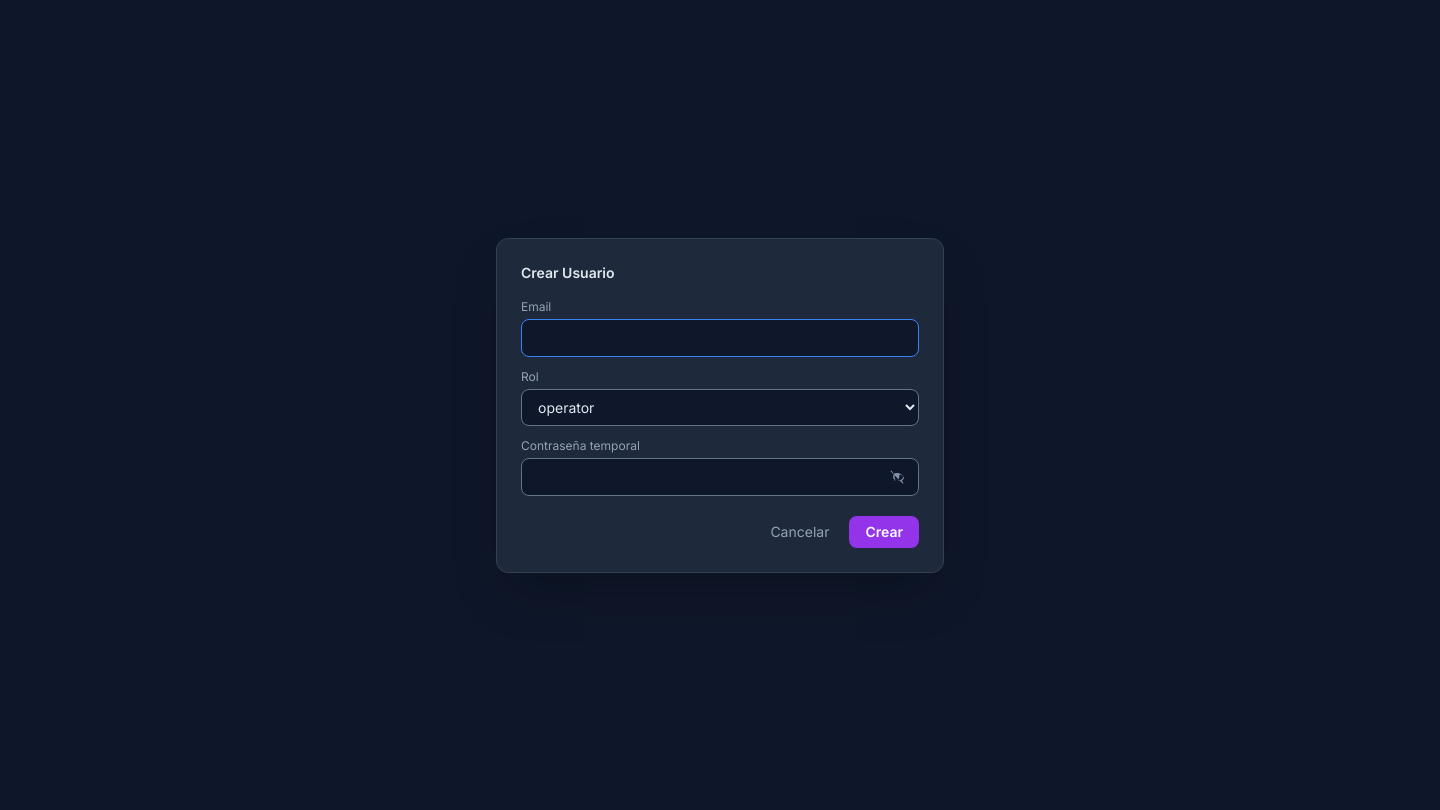
CrearUsuarioModal › en es, mientras guarda el botón dice "Crear" -> "Creando…"
In the field labelled "Email": (720, 338) [521,318,919,356], type "n@x.io"
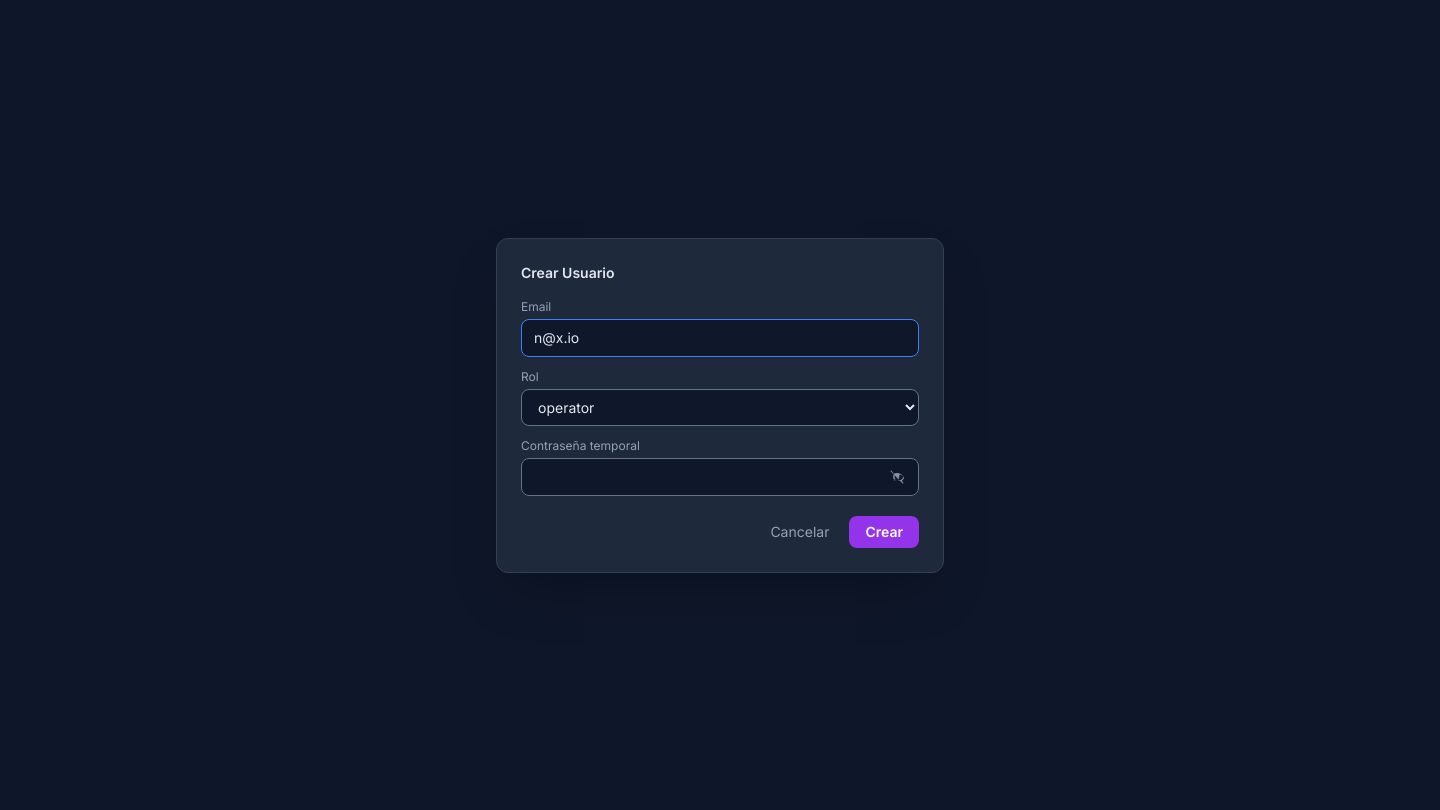
In the password field labelled "Contraseña temporal": (720, 476) [521,458,919,496], type "clave-larga-9"
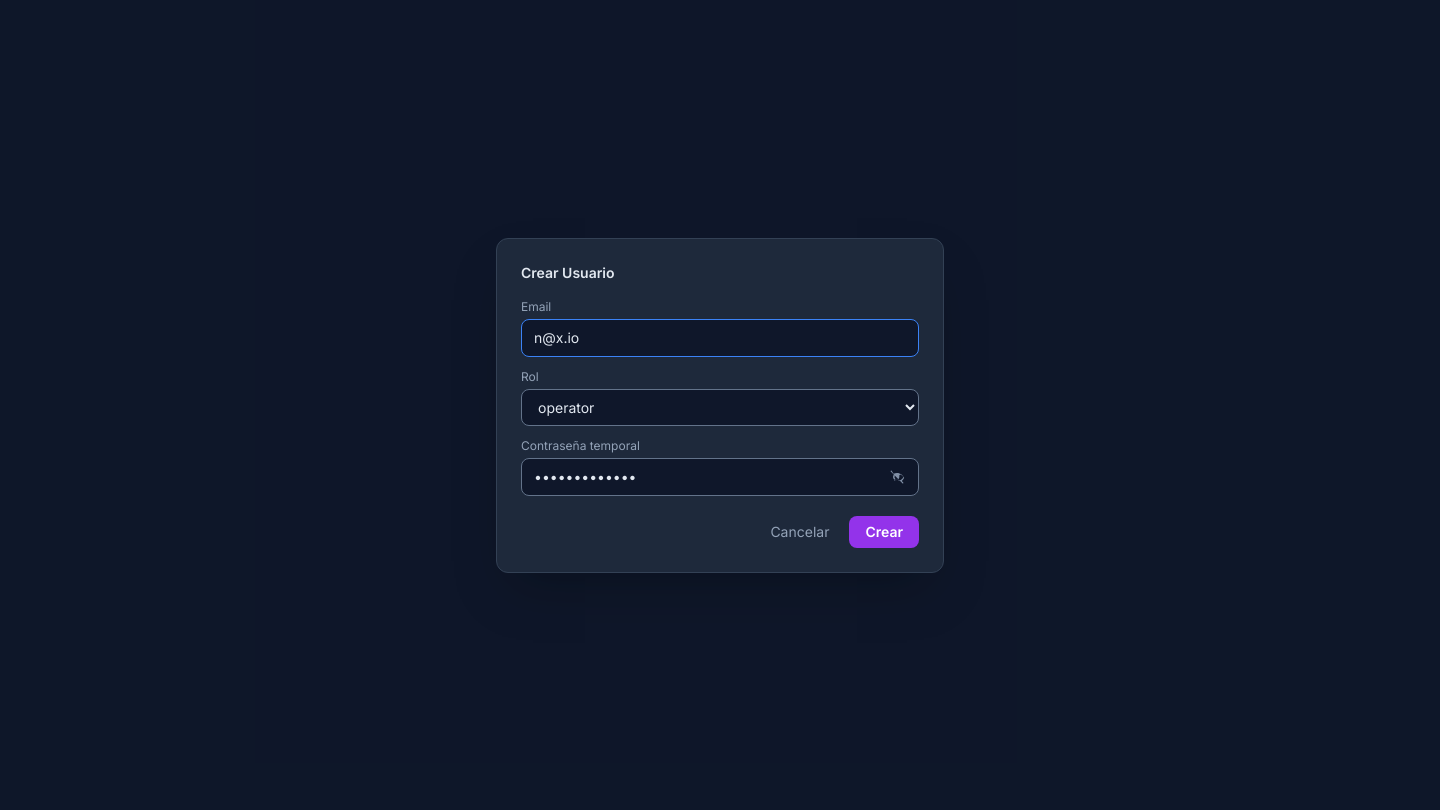
Click the button "Crear": (884, 532) [849,516,919,548]
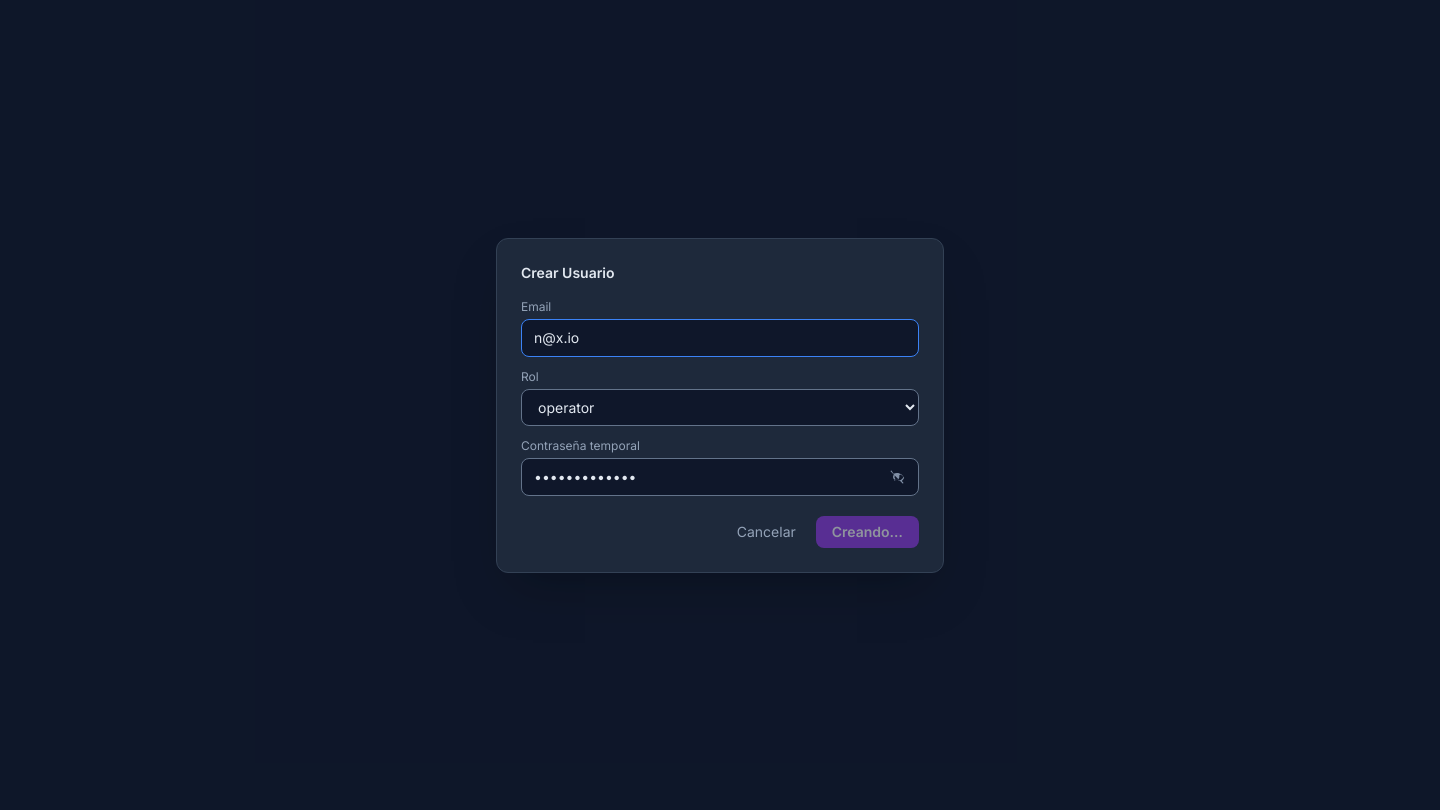
Check: the button "Creando…" is disabled, box [816,516,919,548]
